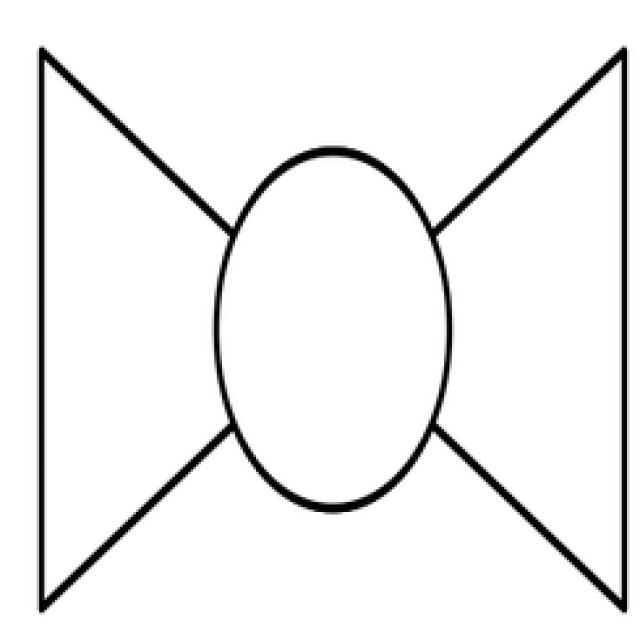ball valve: (37, 49, 627, 609)
